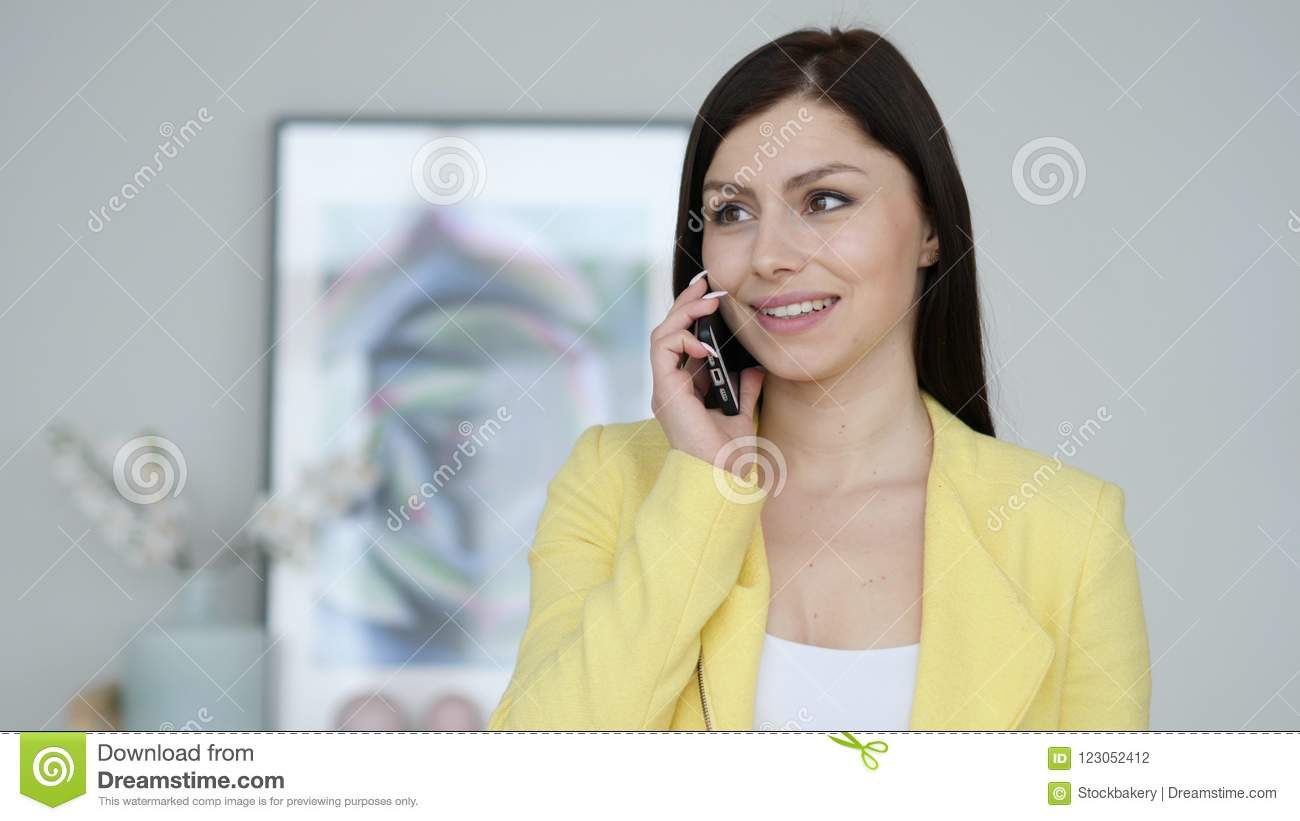phone: (681, 254, 745, 438)
talk: (646, 152, 889, 482)
